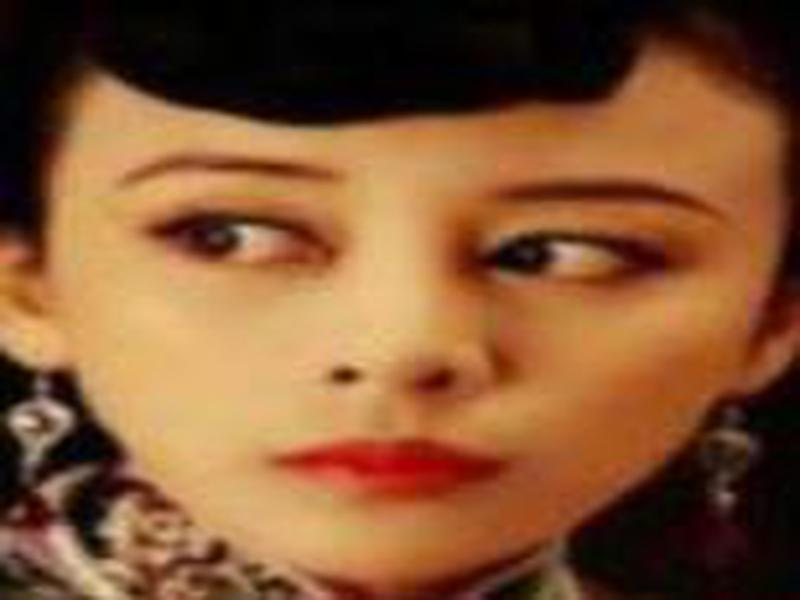without_mask: (54, 79, 762, 581)
